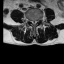CCS_normal: (33, 19, 35, 27)
LFS_stenosis: (36, 18, 38, 24)
LLS_normal: (35, 18, 36, 26)
RFS_stenosis: (29, 17, 31, 24)
RLS_normal: (31, 19, 33, 26)
